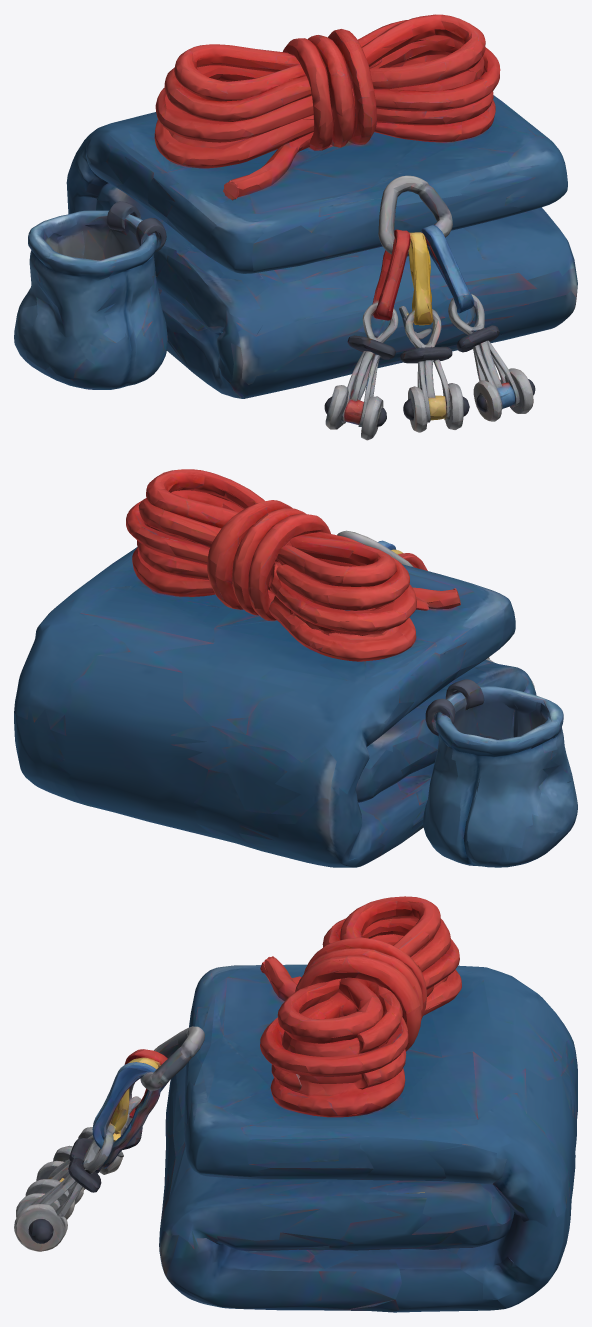
File: pad.glb
3 views of the same model, one above another, from view 1: azimuth 30°, elevation 25°; view 2: azimuth 150°, elevation 25°; view 3: azimuth 270°, elevation 25° (orthographic). The views are drawn at different scales.
Parts seen in each view (by area): view 1: Mesh_0; view 2: Mesh_0; view 3: Mesh_0.
Boxes of the visible parts, x1,y1,x2,y2 form: Mesh_0: [14, 14, 577, 440]; Mesh_0: [14, 469, 577, 867]; Mesh_0: [14, 896, 577, 1312].
Bounding box in the file's own units: 1.87 × 1.05 × 1.85.
Materials: 1 (1 with a texture image).
